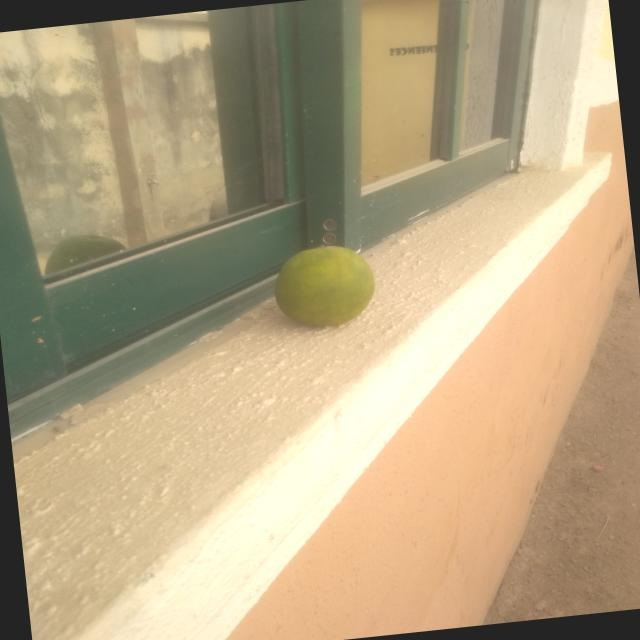agrume: (256, 227, 401, 341)
